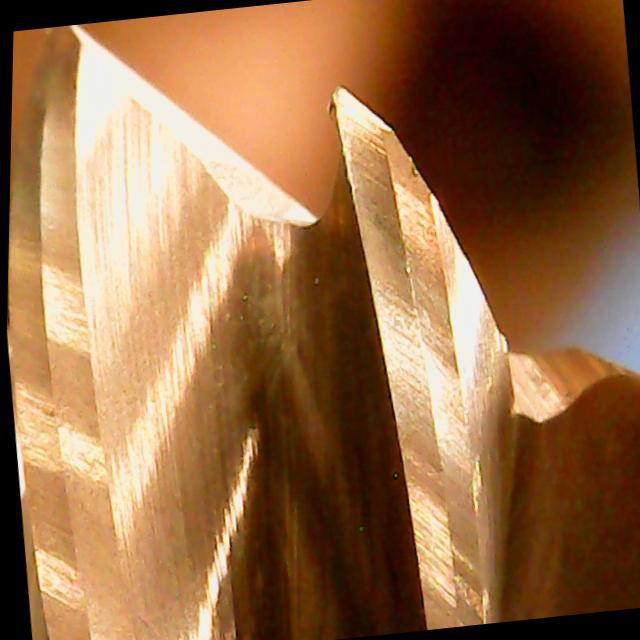Tool-wear-class-0: (292, 64, 511, 439)
